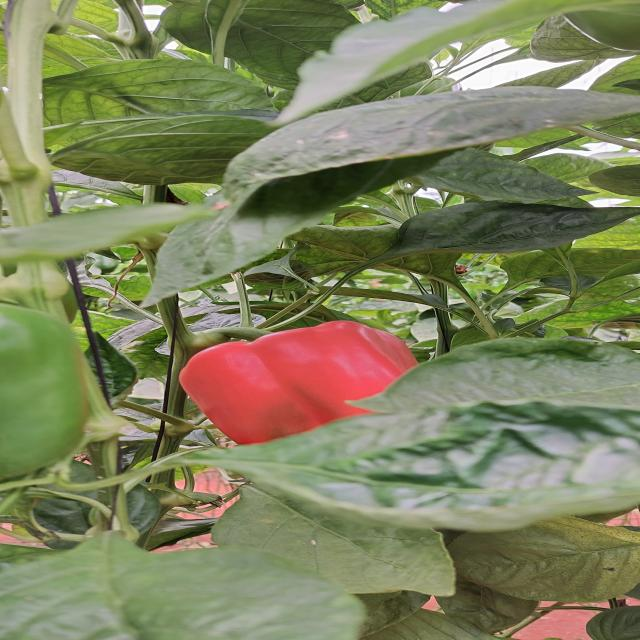Red-Ready-to-Harvest: (169, 322, 476, 484)
